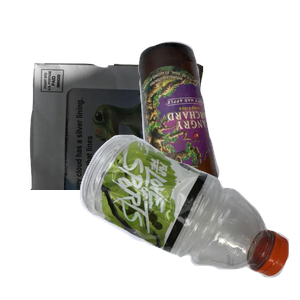glass: (136, 39, 300, 219)
paper: (27, 60, 223, 240)
plastic: (77, 132, 300, 300)
trash: (109, 175, 279, 300)
